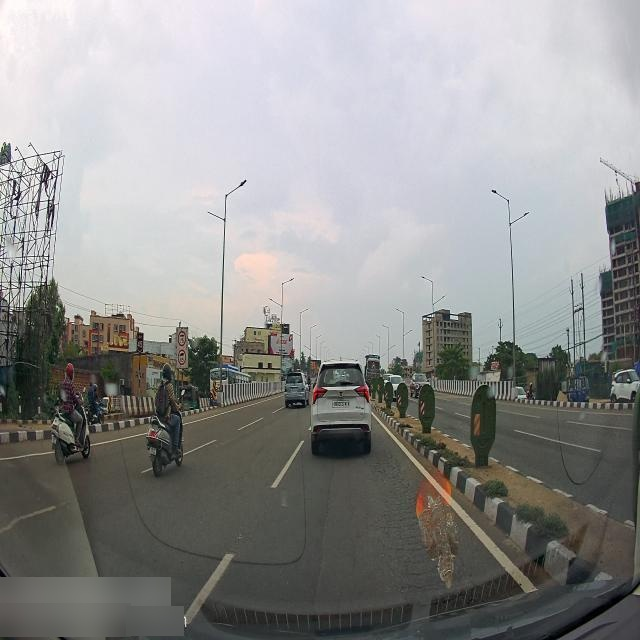pothole: (374, 514, 429, 582), (366, 446, 418, 509)
